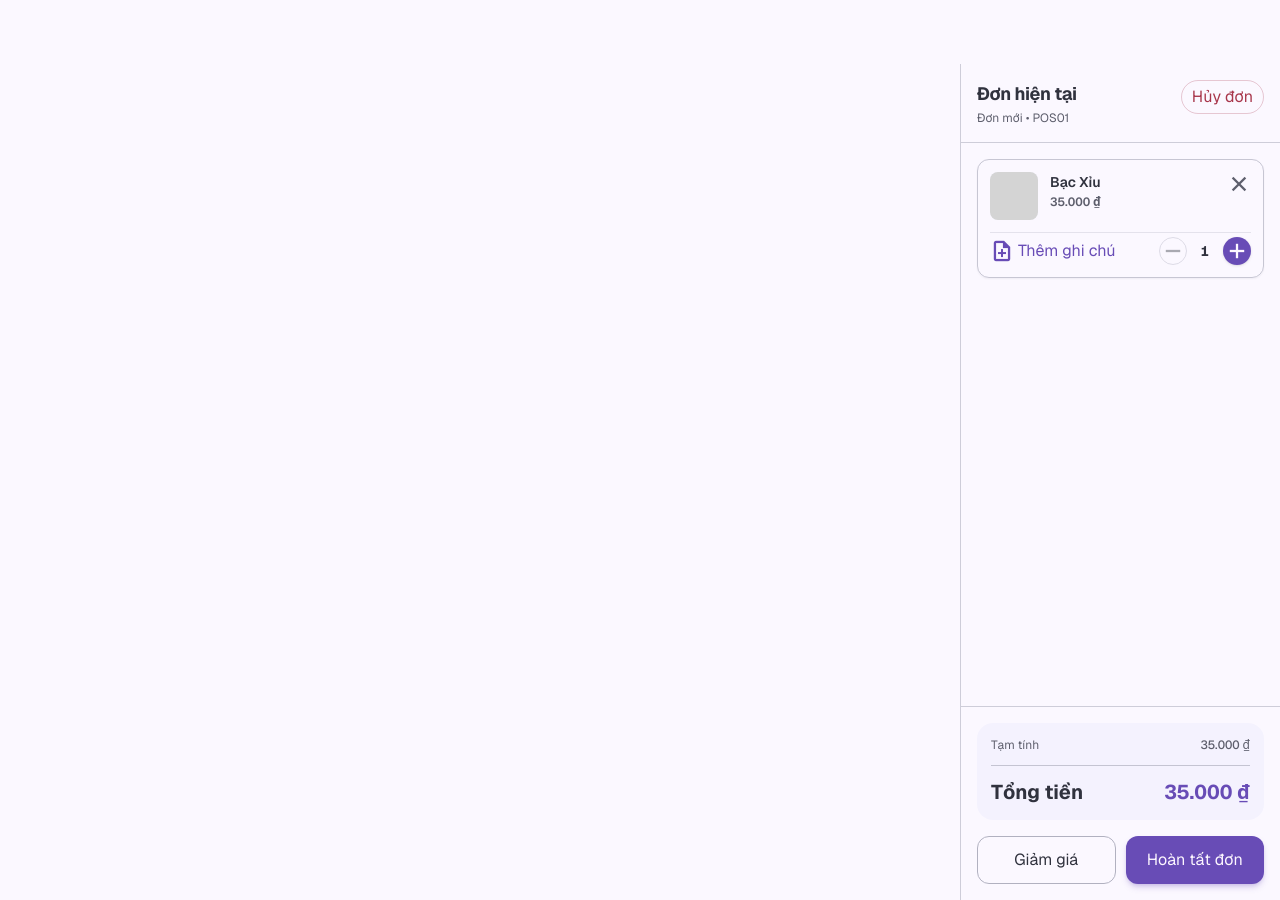
CartPanel checkout payment modal › removes inline payment selector and opens modal without finalizing
This screenshot has width=1280, height=900.
Expected: the text "Phương thức thanh toán" is not shown
Expected: the radio button labelled "Tiền mặt" is not shown
Click the button "Hoàn tất đơn" at (1195, 860), box [1126,836,1264,884]
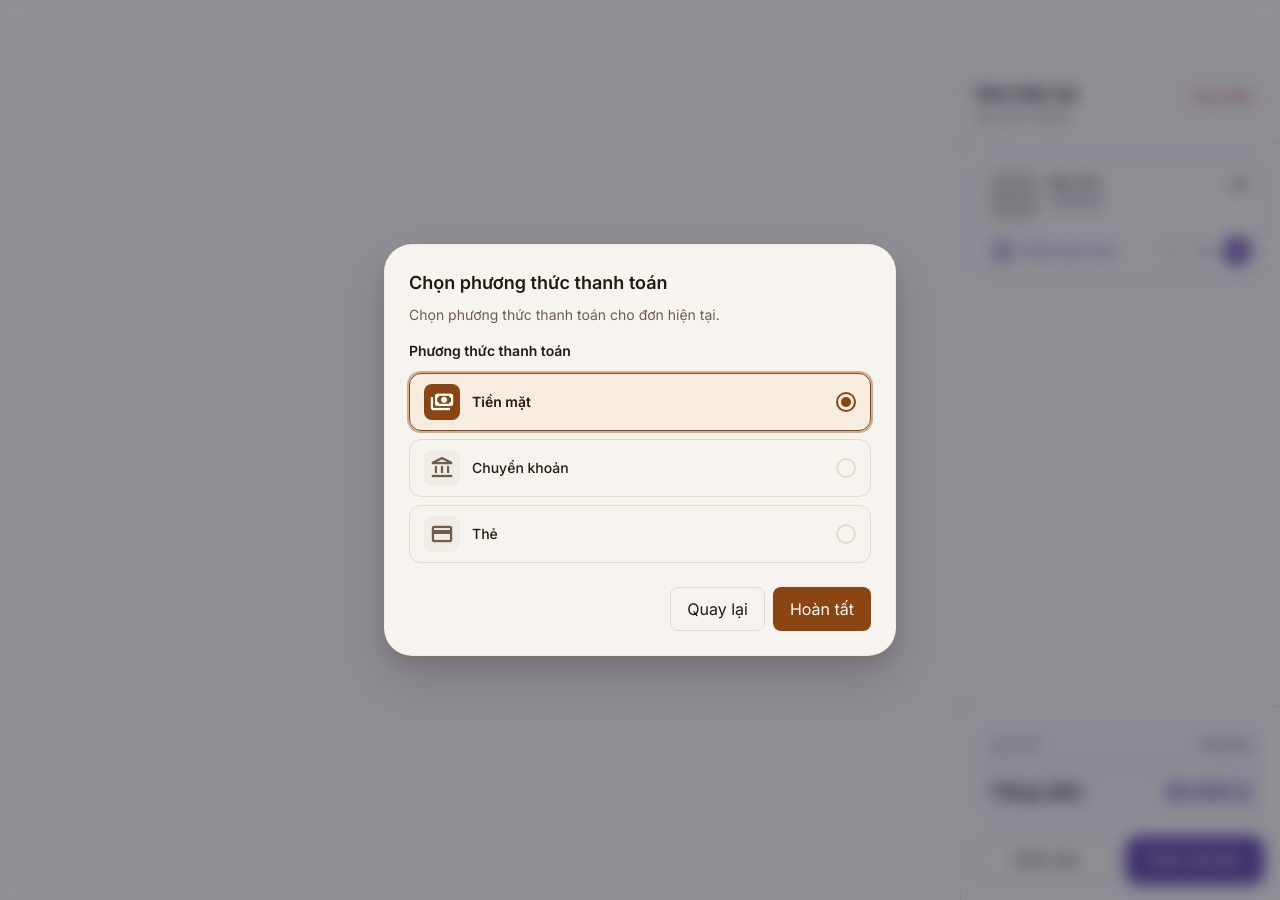
Expected: the heading "Chọn phương thức thanh toán" is shown, [409,272,668,293]
